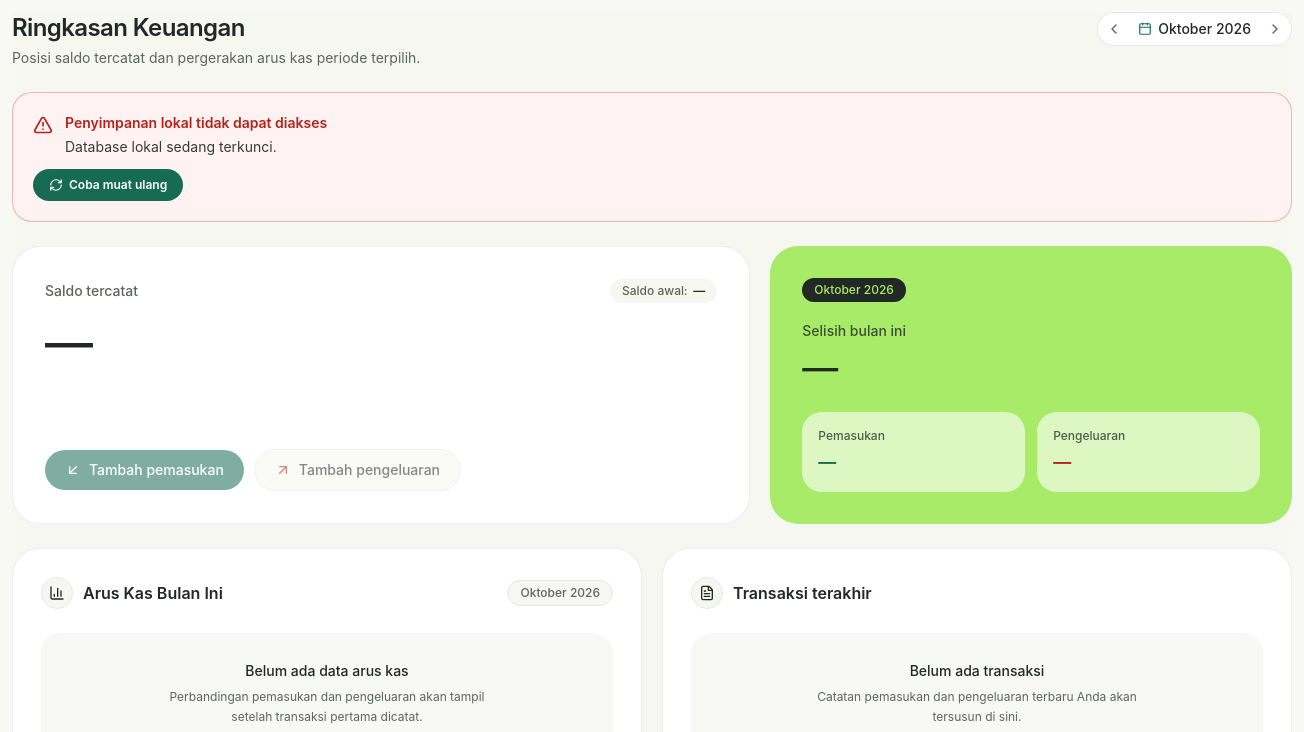
Test: Nota Milestone 3 — Dashboard with Real Data › renders an accessible storage error banner and recovers when retried
Expected: the message shows "Penyimpanan lokal tidak dapat diakses", [65,114,327,131]
Expected: the message shows "Database lokal sedang terkunci", [65,138,277,155]
Click the button "Coba muat ulang". click: {"x": 108, "y": 185}
box: [33,169,183,201]
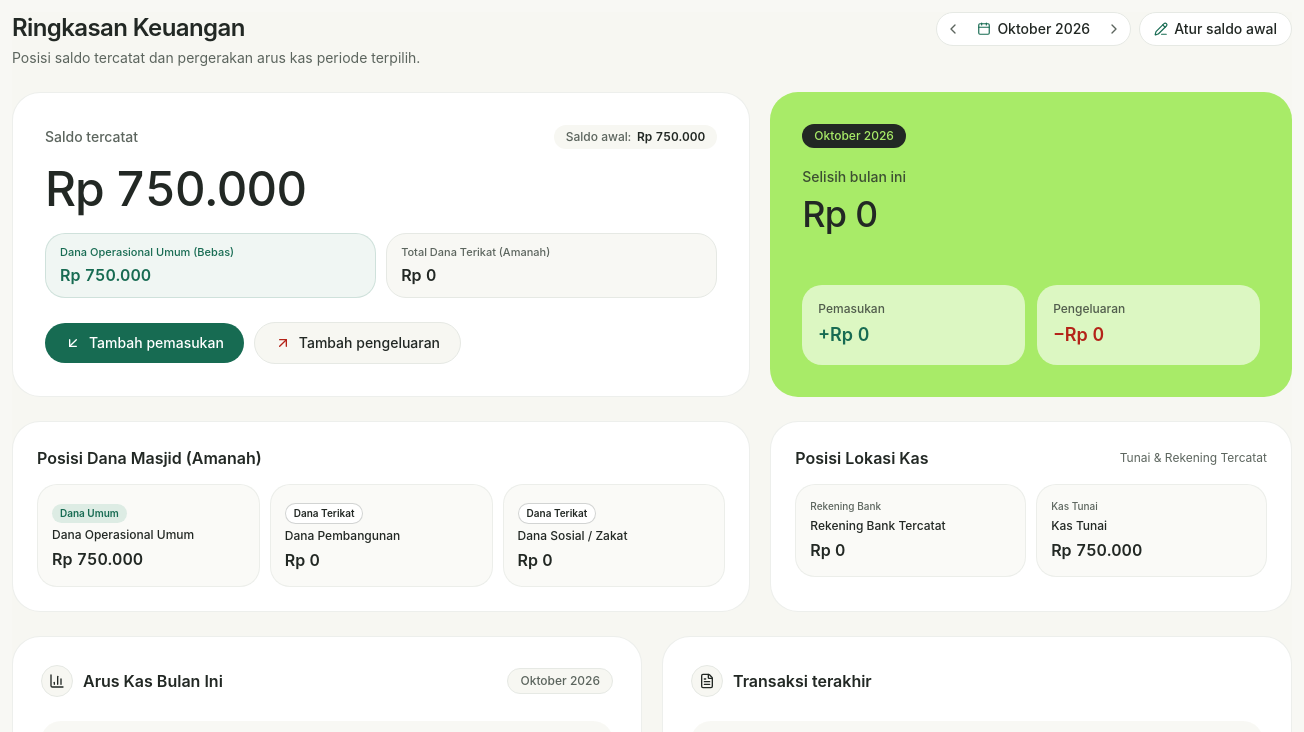
Now the message "Penyimpanan lokal tidak dapat diakses Database lokal sedang terkunci. Coba muat" is gone
Now the text with test id "current-balance-value" reads "Rp 750.000", box [45,159,306,218]
